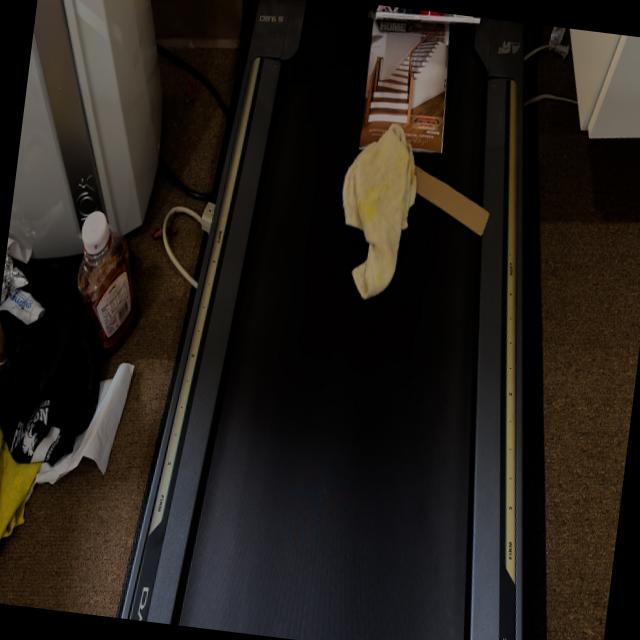Recycle: (383, 151, 495, 245)
Trash: (327, 122, 441, 321), (339, 21, 468, 168)
